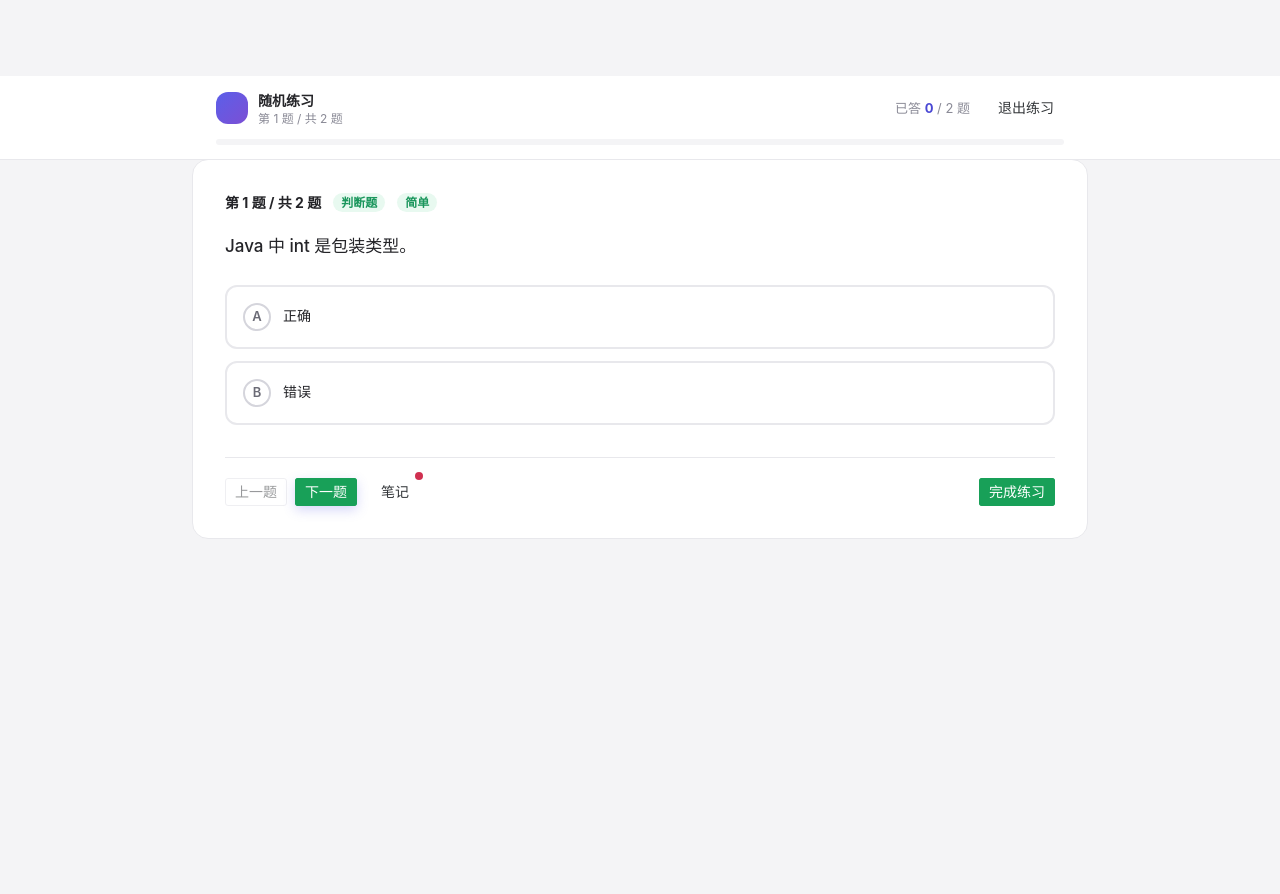
Test case: PracticePage 自由练习页 › 完成练习进入对答案环节：判分结果来自统一提交
Click the element showing "B 错误": x=640, y=393 [225, 361, 1055, 425]
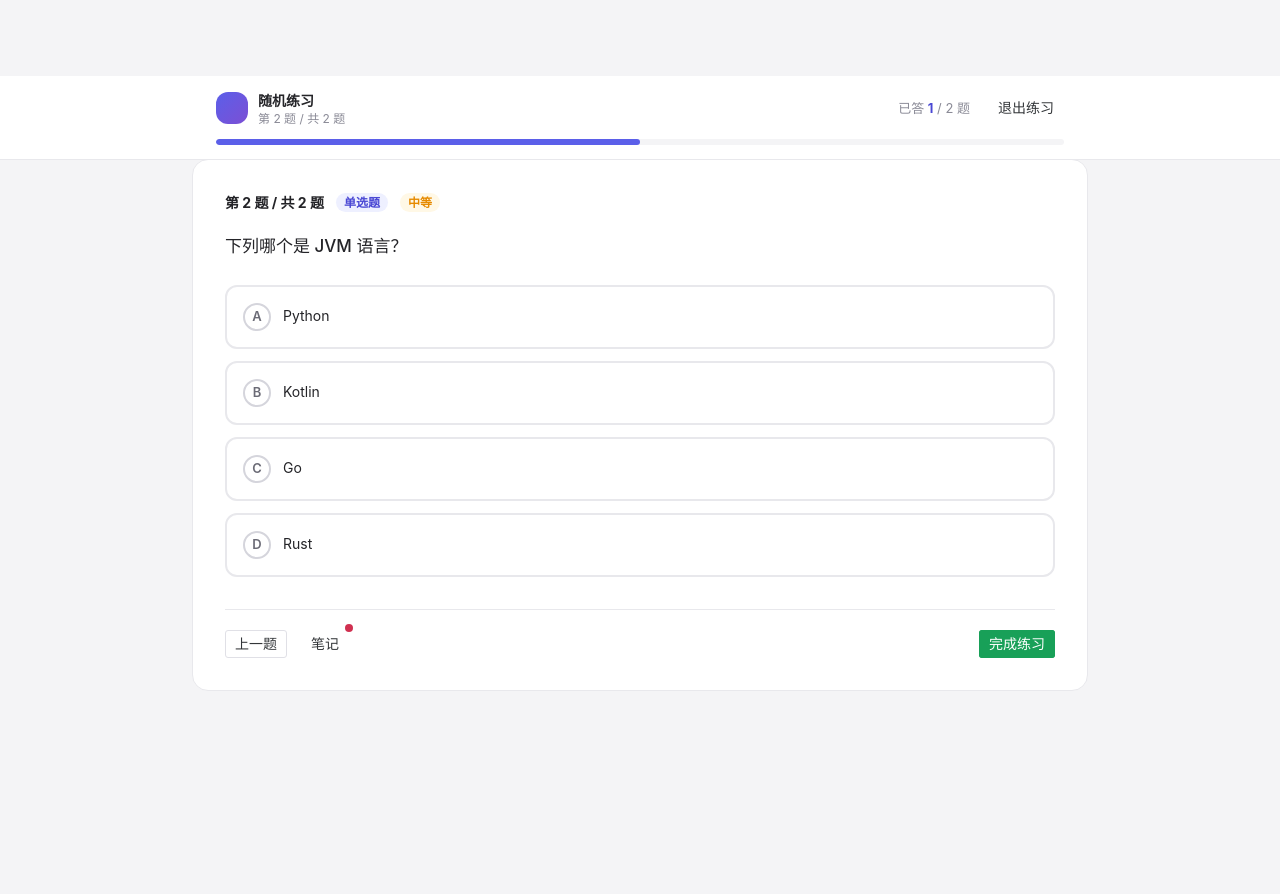
Click the button "完成练习": x=1017, y=644 [979, 630, 1055, 658]
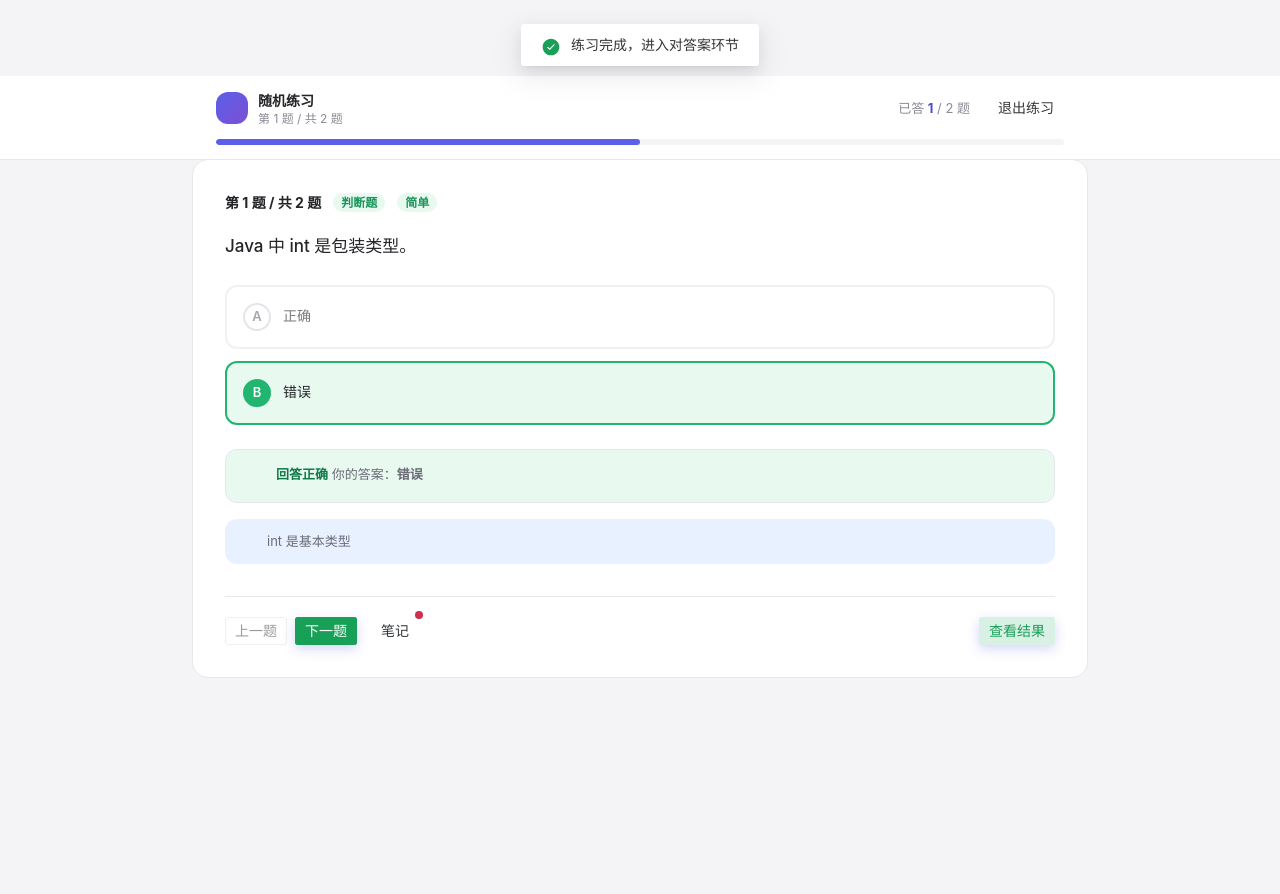
Result: the text "回答正确" is shown at [276, 466, 328, 482]
Result: the text "查看结果" is shown at [989, 624, 1045, 638]
// 点「查看结果」→ 出统计结果页
Click the button "查看结果": x=1017, y=631 [979, 617, 1055, 645]
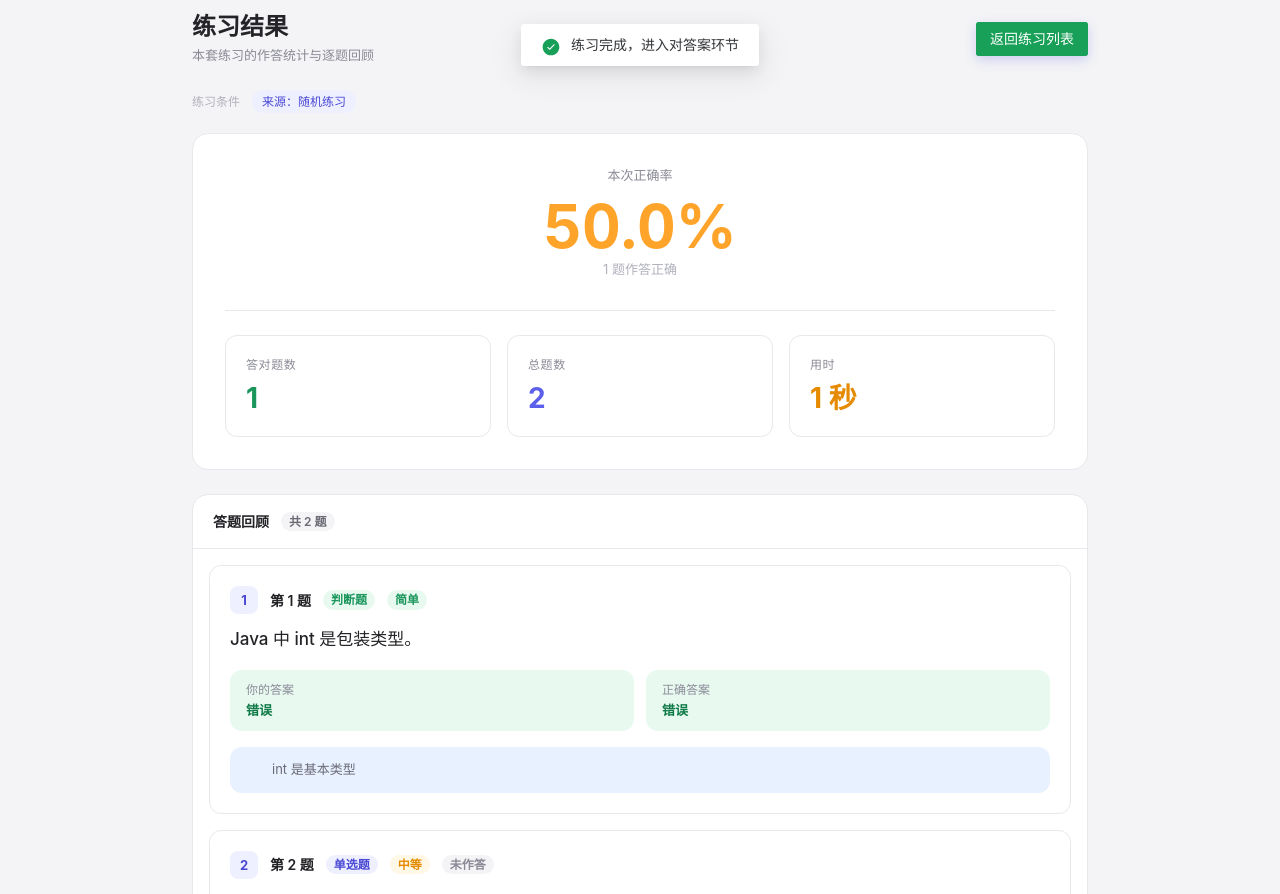
Result: the text "练习结果" is shown at [192, 12, 288, 41]
Result: the text "答题回顾" is shown at [213, 511, 269, 532]
